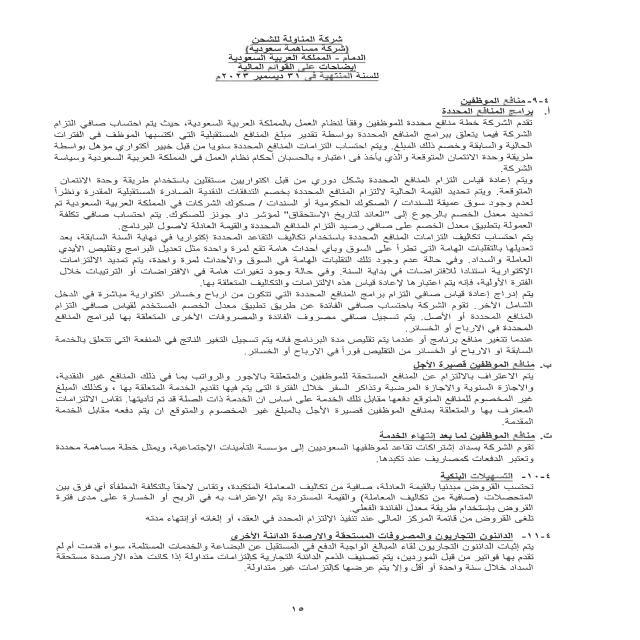notes: (222, 64, 363, 72)
text: (30, 88, 569, 576)
